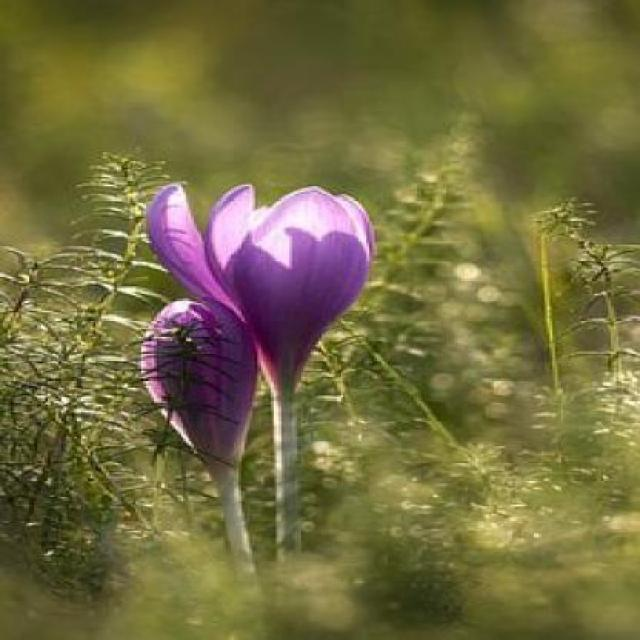saffron closed: (140, 299, 256, 559)
saffron open: (149, 186, 374, 505)
